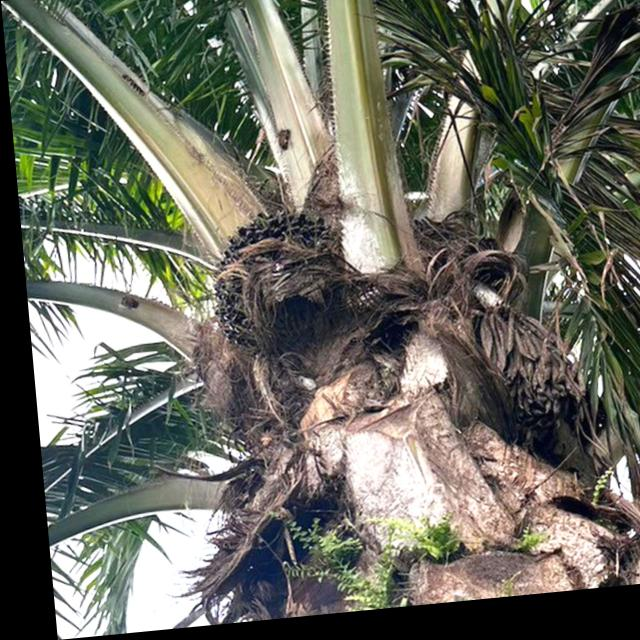unripe: (196, 196, 355, 367)
